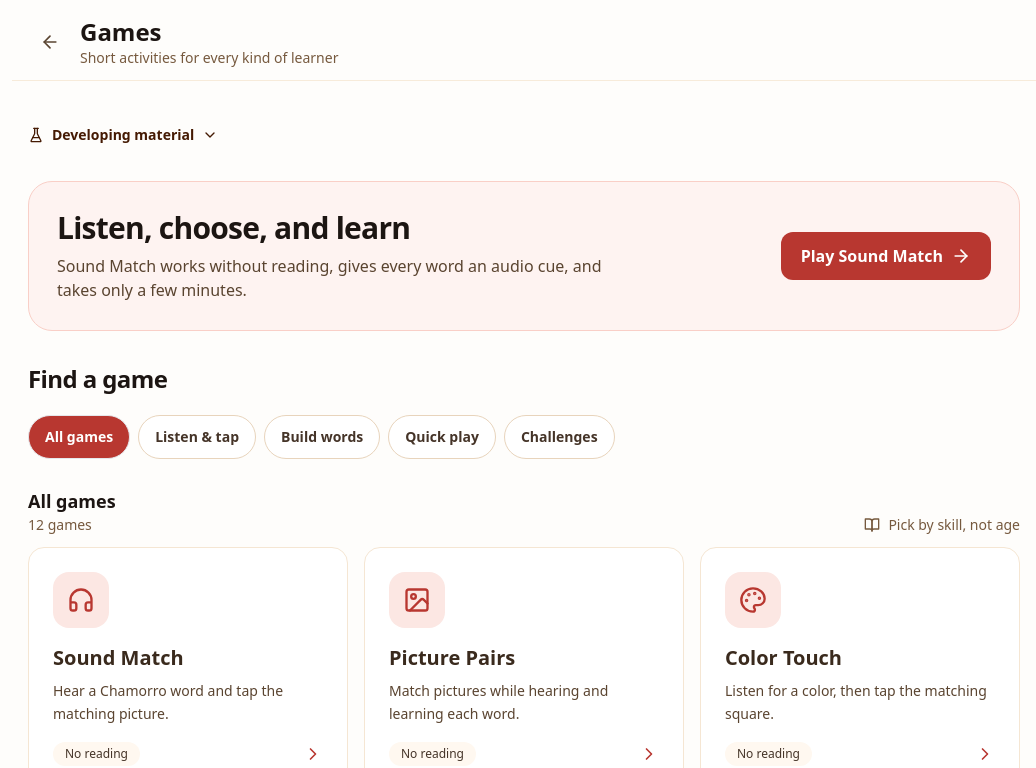
Games › filters games by learning style without navigating away
Click the button "Listen & tap" at (197, 437), box top-left (138, 415), bottom-right (256, 459)
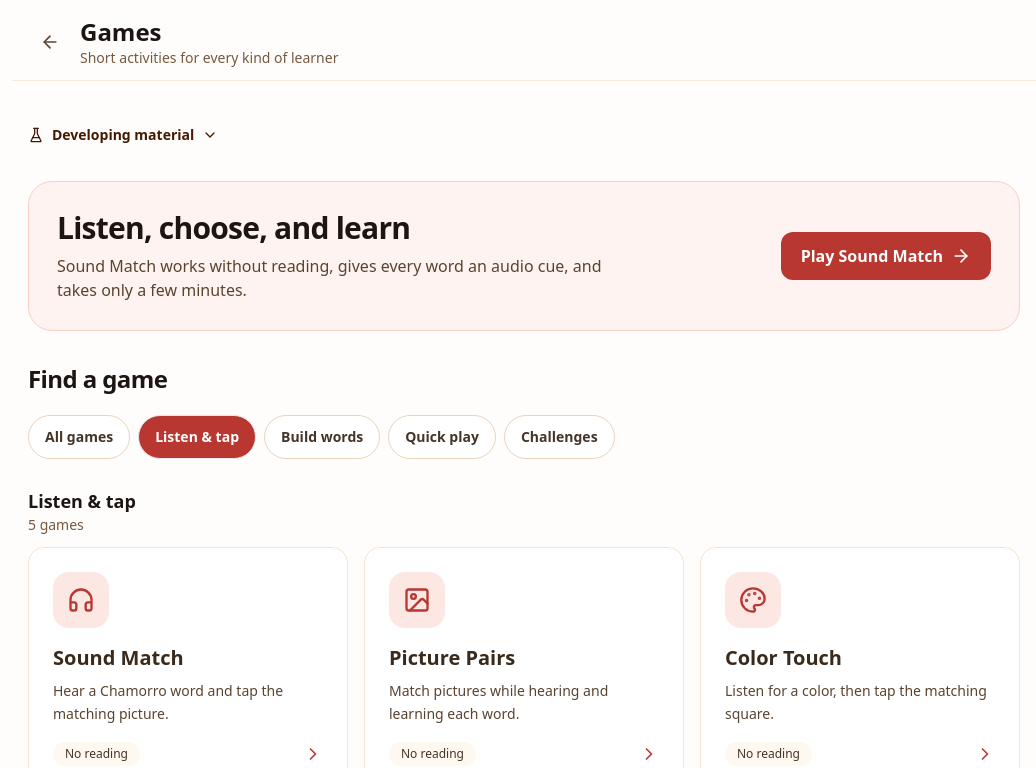
expect the link "Sound Match Hear" is shown: met, box top-left (28, 547), bottom-right (348, 767)
expect the text "5 games" is shown: met, box top-left (28, 515), bottom-right (84, 534)
Click the button "Challenges" at (559, 437), box top-left (504, 415), bottom-right (615, 459)
(page scrolled)
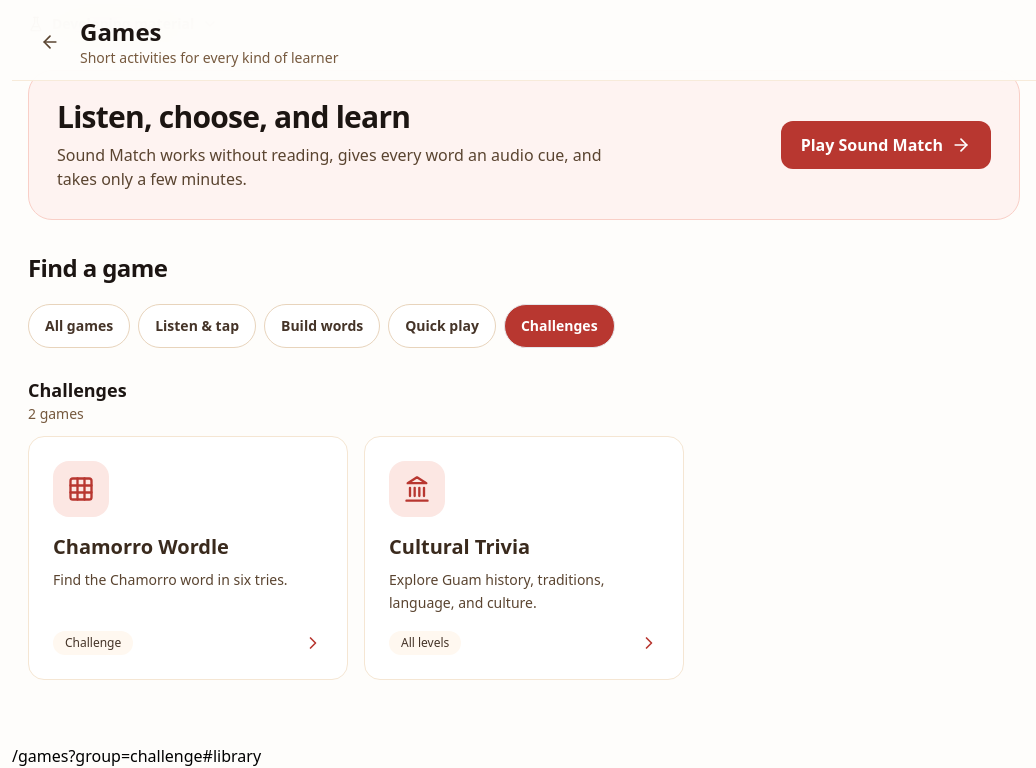
expect the text "2 games" is shown: met, box top-left (28, 404), bottom-right (84, 423)
expect the link "Chamorro Wordle" is shown: met, box top-left (28, 436), bottom-right (348, 680)
expect the text with test id "location" reads "/games?group=challenge#library": met, box top-left (12, 744), bottom-right (261, 766)
